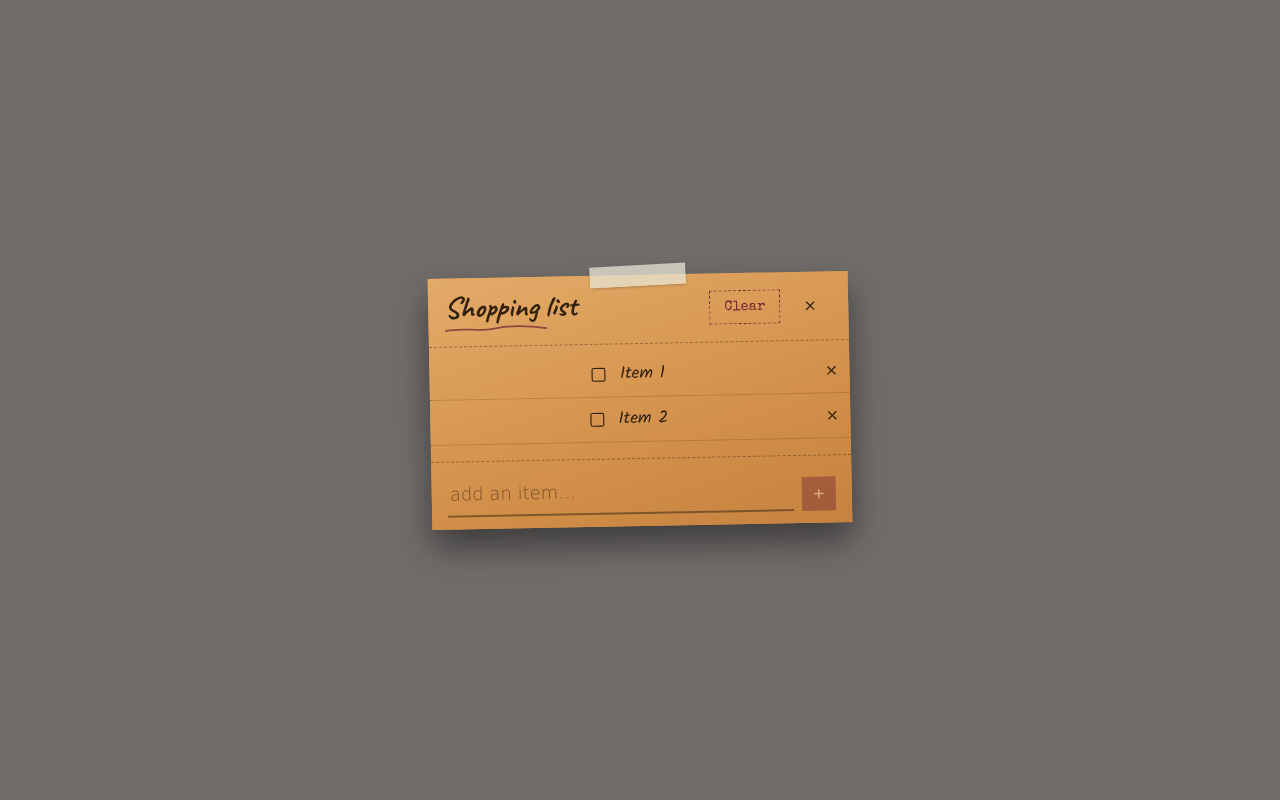
Test case: clearing the list › empties on confirming
Click the button with test id "shopping-clear". click: (745, 306)
box: x1=709 y1=289 x2=781 y2=324
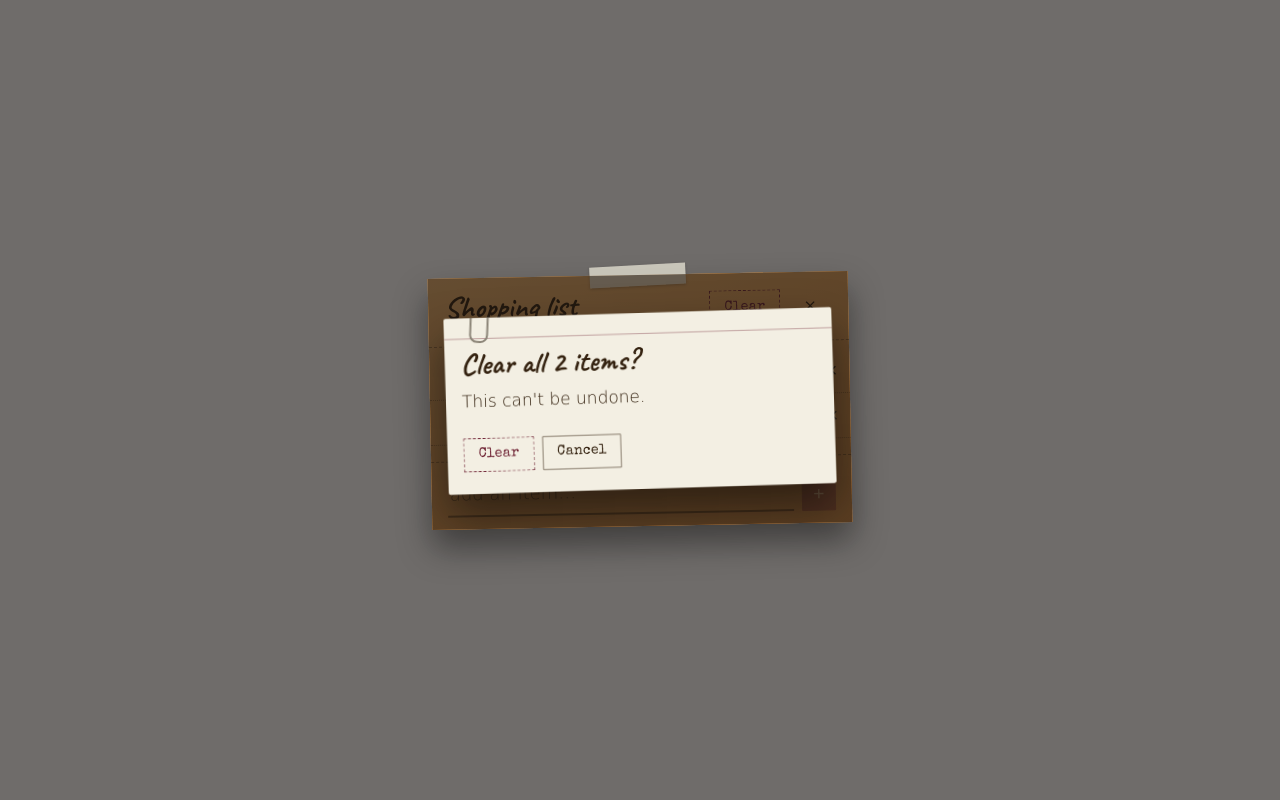
Click the button with test id "clear-confirm". click: (499, 453)
box: x1=463 y1=435 x2=535 y2=471
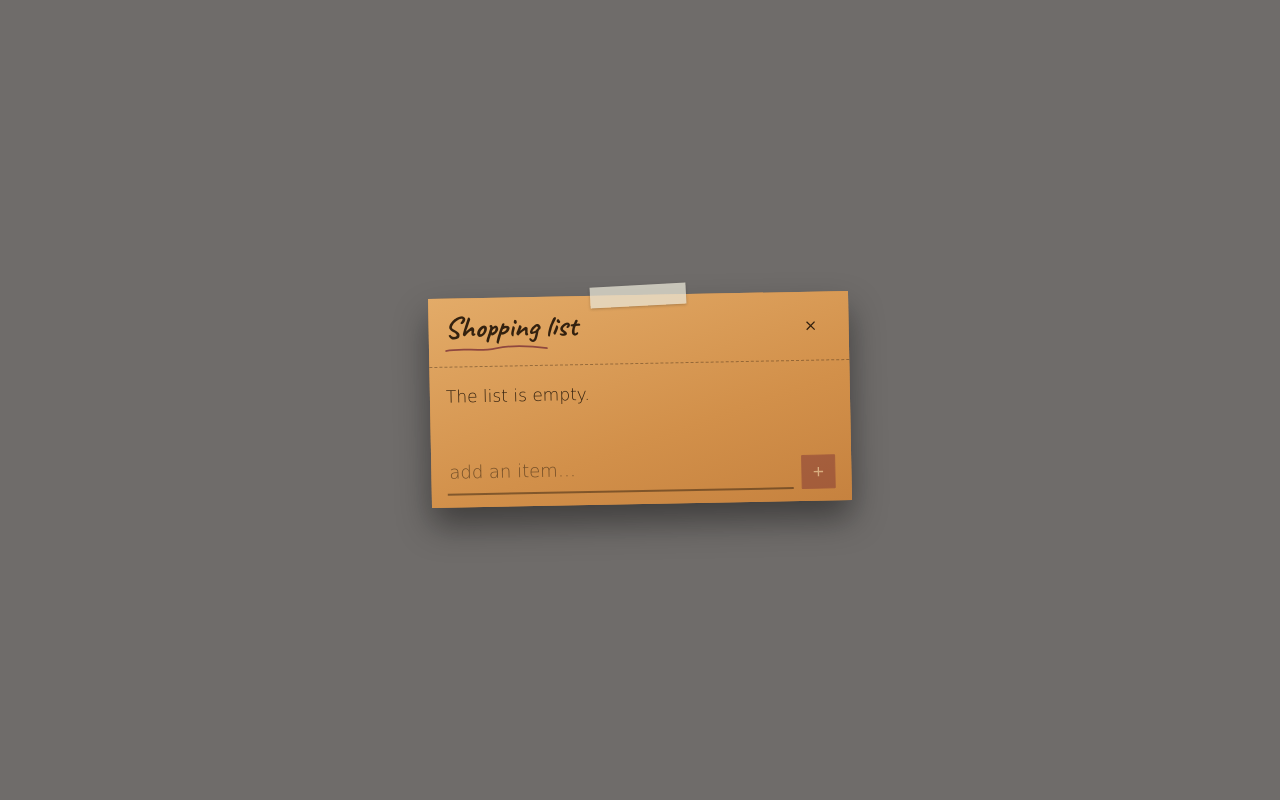
Check: the text "The list is empty." is shown, box x1=446 y1=384 x2=590 y2=407
